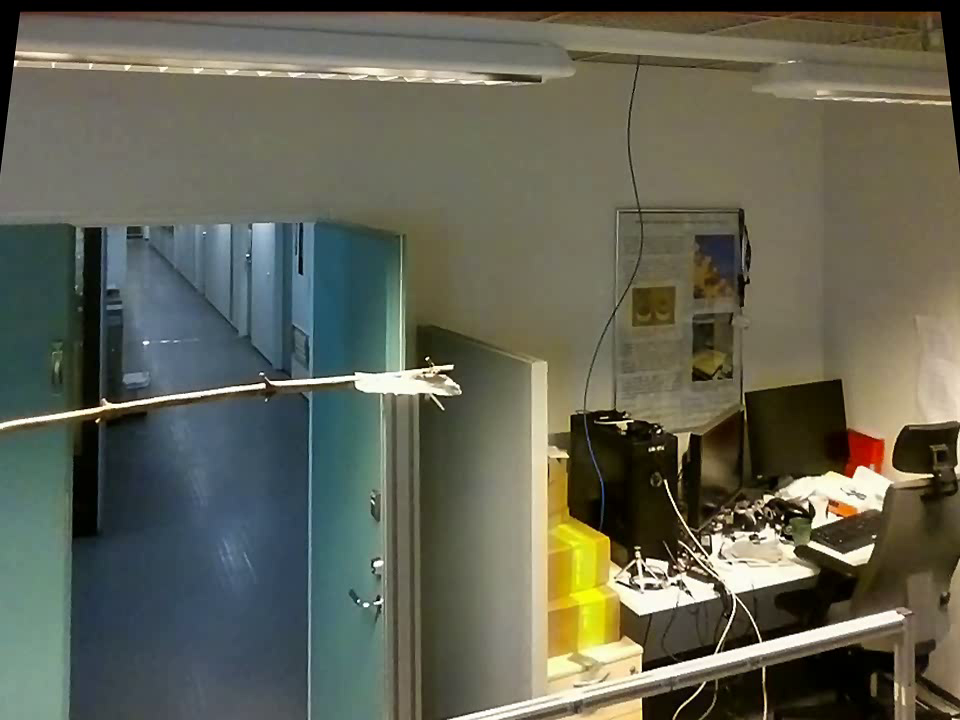aluminum_frame: (479, 601, 913, 716), (376, 395, 424, 717), (893, 601, 920, 717)
branch: (1, 364, 352, 445)
